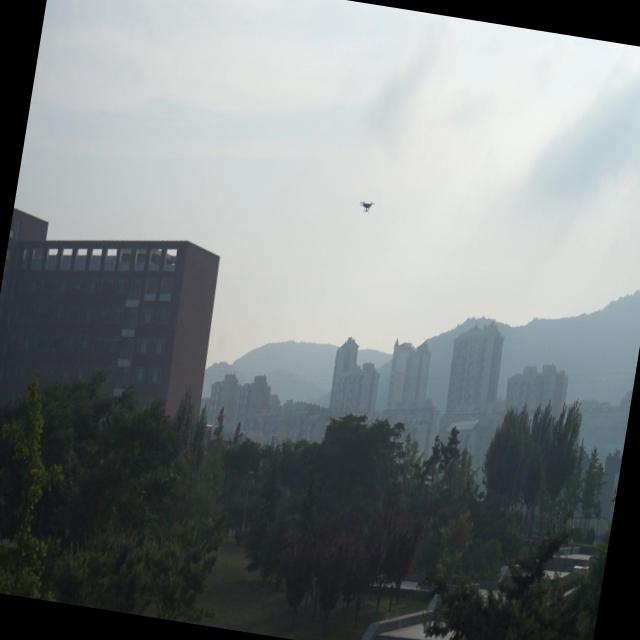drone: (356, 196, 376, 216)
